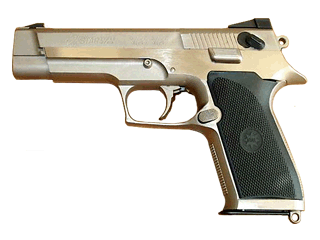Arma Real: (6, 17, 308, 225)
